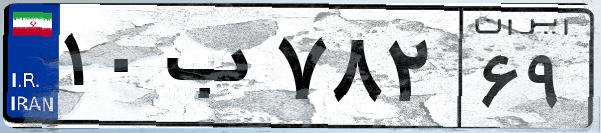0: (110, 28, 158, 98)
1: (57, 26, 110, 100)
2: (385, 28, 445, 110)
6: (475, 38, 525, 113)
7: (270, 28, 330, 110)
8: (330, 28, 385, 110)
9: (525, 38, 570, 115)
ب: (158, 20, 270, 120)
